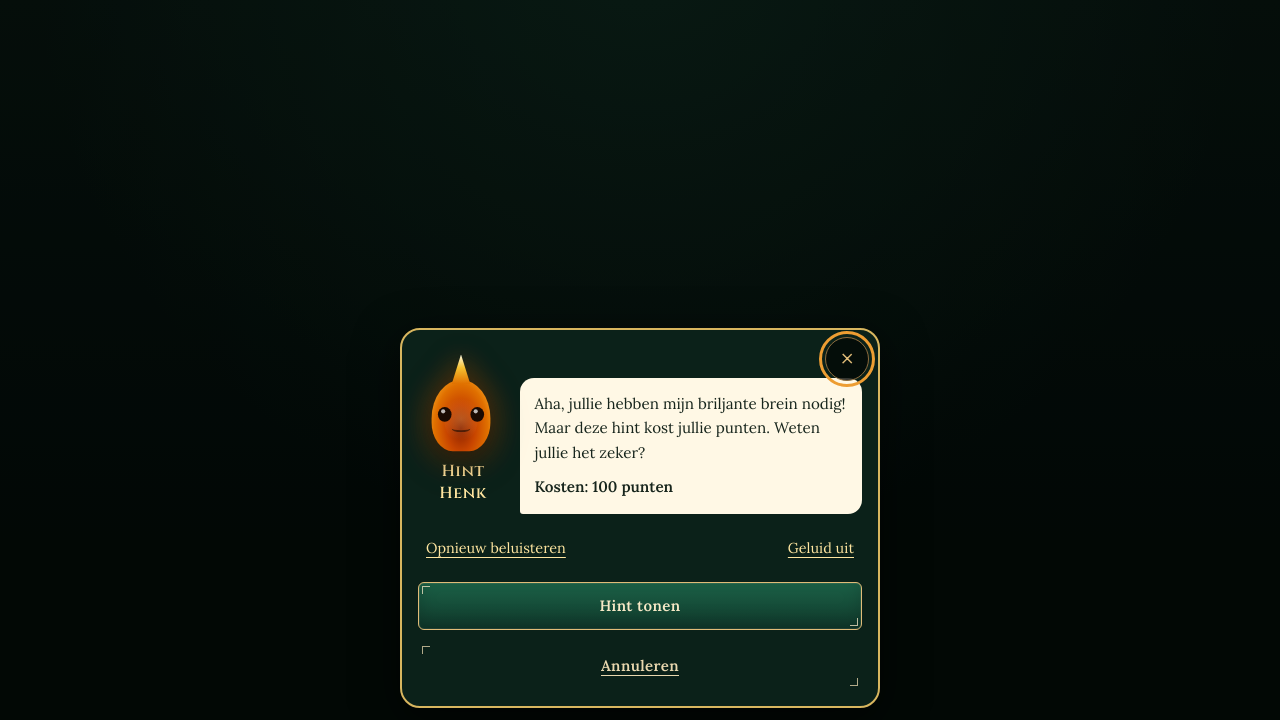
Hint Henk paid hints › keeps the hint hidden on payment failure and supports retry
Step 1. Click the button "Hint tonen" → x=640, y=606, box [418,582,862,630]
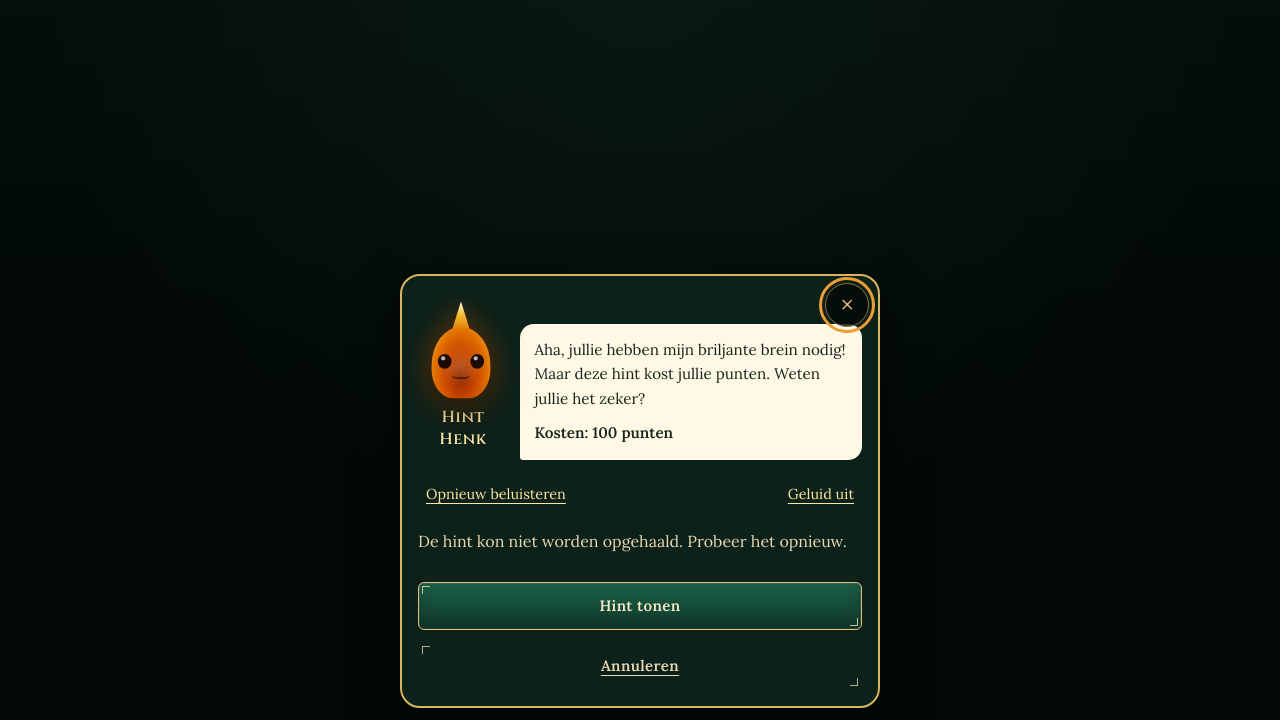
Result: the message "De hint kon niet worden opgehaald. Probeer het opnieuw." is shown at [418,529,862,554]
Step 2. Click the button "Hint tonen" → x=640, y=606, box [418,582,862,630]
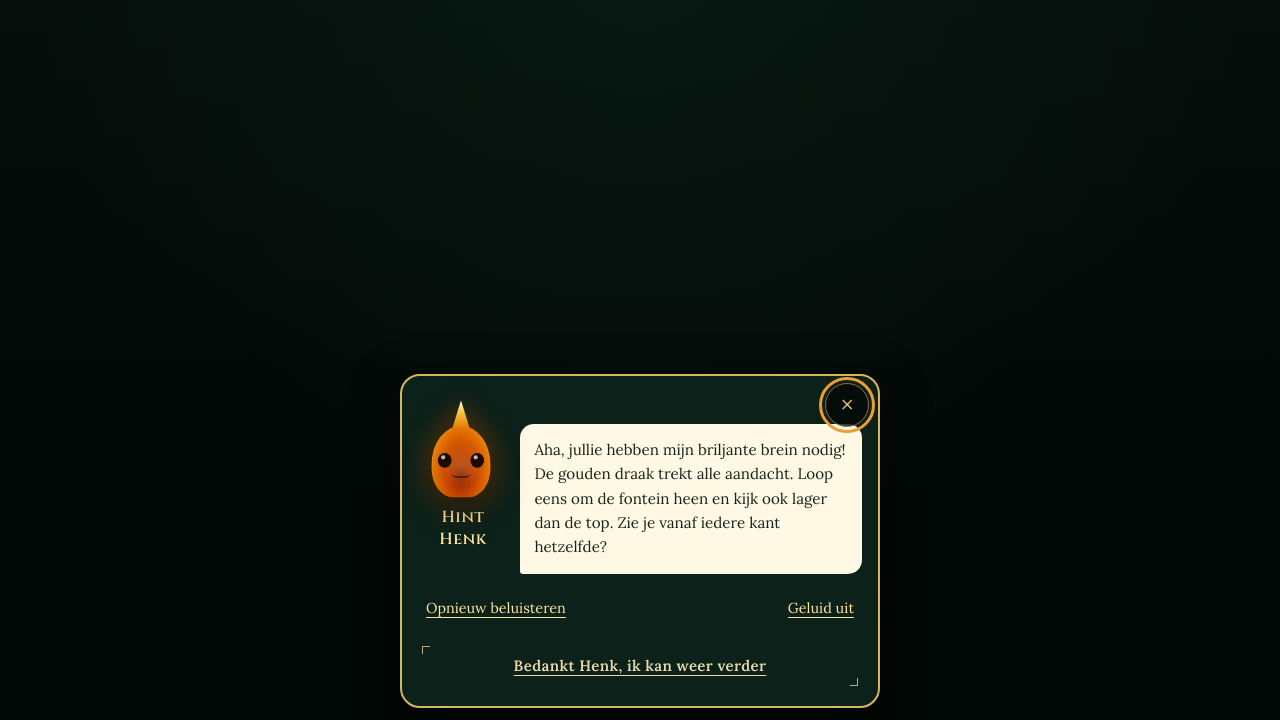
Result: the text "De gouden draak trekt alle aandacht." is shown at [534,440,846,556]
